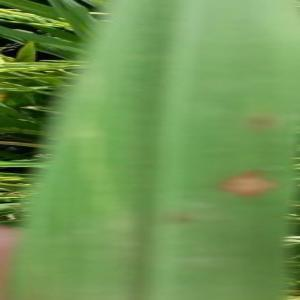1 RiceBlast: (222, 150, 276, 214)
